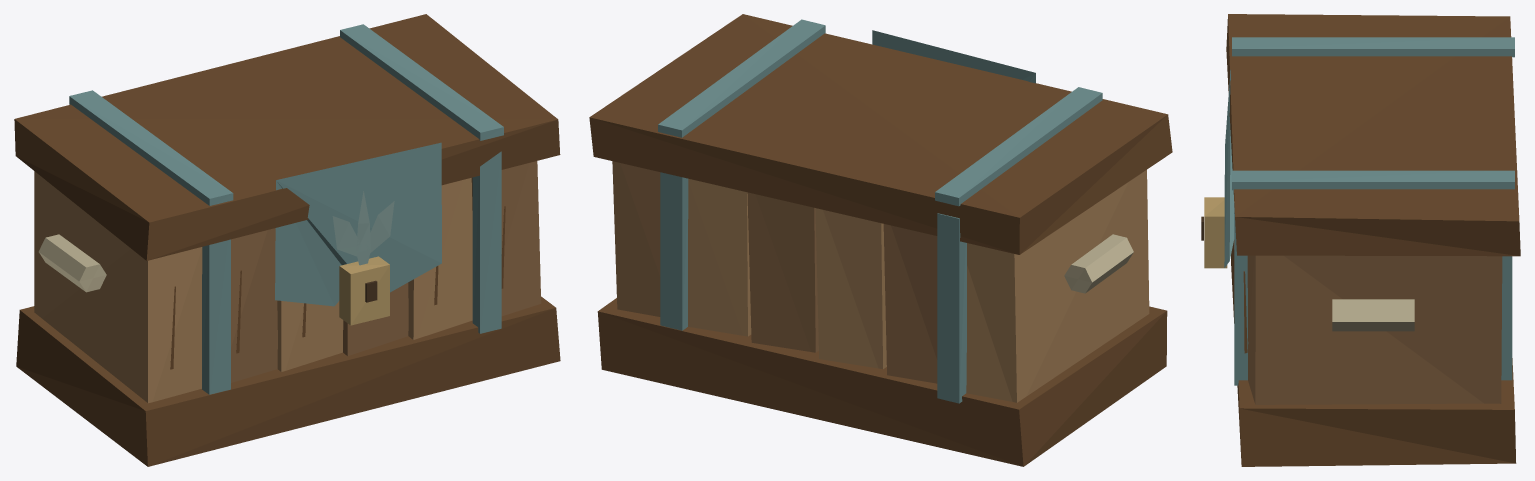
The model's file is trail_chest.glb.
3 renders of one model, left to right at view 1: azimuth 30°, elevation 25°; view 2: azimuth 150°, elevation 25°; view 3: azimuth 270°, elevation 25°, orthographic. The views are drawn at different scales.
Parts seen in each view (by area): view 1: WoodlandMesh; view 2: WoodlandMesh; view 3: WoodlandMesh.
Part boxes in pixels (<box>): WoodlandMesh: <box>14,14,560,466</box>; WoodlandMesh: <box>589,14,1172,466</box>; WoodlandMesh: <box>1201,14,1520,466</box>.
Bounding box in the file's own units: 2.32 × 1.24 × 1.4.
